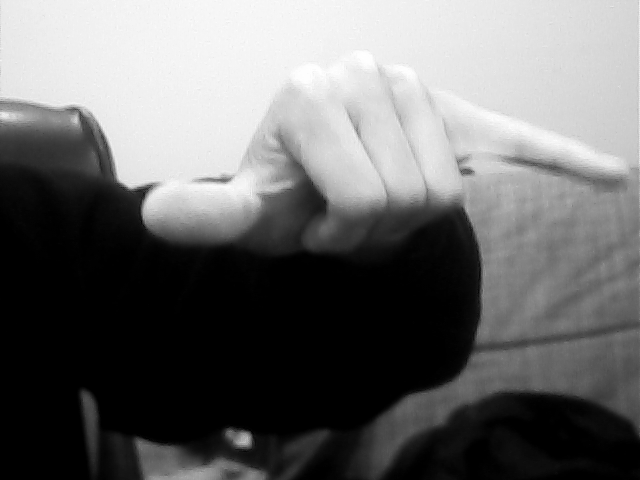aloha: (137, 43, 640, 272)
